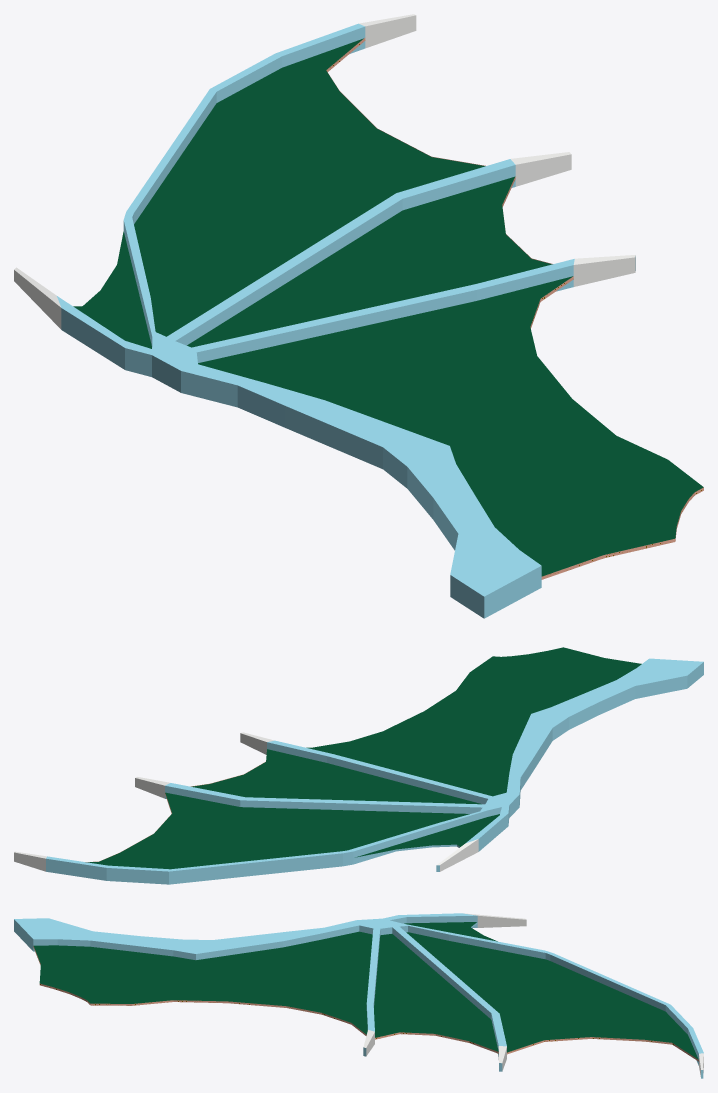
The model's file is Ingredient_bat_wing_1.fbx.
The picture shows the model from 3 angles, top to bottom: view 1: azimuth 30°, elevation 25°; view 2: azimuth 150°, elevation 25°; view 3: azimuth 270°, elevation 25°; orthographic projection. The views are drawn at different scales.
Visible parts, largest first — view 1: BatWing.001; view 2: BatWing.001; view 3: BatWing.001.
Boxes of the visible parts, left/top/right/bottom form: BatWing.001: left=14, top=14, right=703, bottom=618; BatWing.001: left=14, top=647, right=703, bottom=884; BatWing.001: left=14, top=913, right=703, bottom=1078.
Size of the model in its own units: 21.67 by 0.8033 by 40.76.
